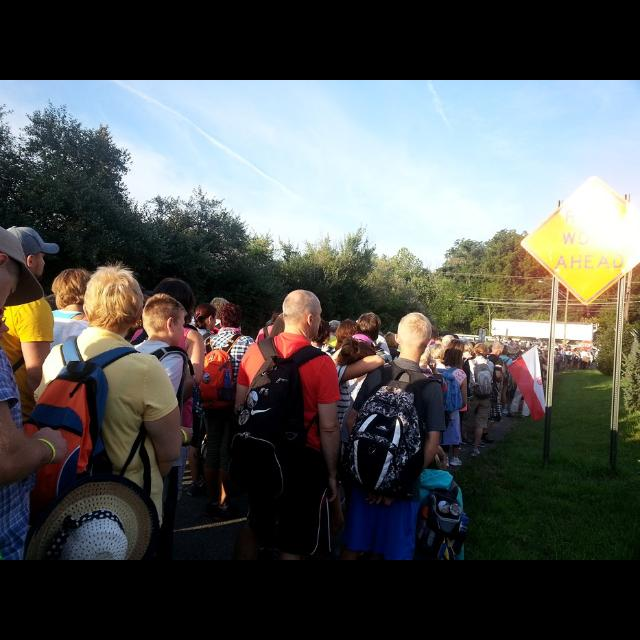head: (82, 268, 146, 326), (0, 226, 34, 330), (1, 228, 30, 322), (142, 296, 186, 346), (282, 289, 324, 339), (152, 279, 194, 325), (394, 310, 434, 356), (54, 268, 94, 310), (343, 339, 372, 376), (358, 313, 382, 342), (195, 304, 219, 332), (220, 304, 242, 330), (446, 340, 464, 360), (385, 332, 401, 350), (474, 344, 490, 358), (492, 341, 506, 357), (502, 349, 508, 357)
person: (317, 310, 397, 538), (194, 298, 266, 546), (170, 299, 227, 503), (422, 338, 468, 470), (372, 329, 410, 468), (458, 341, 500, 457), (478, 340, 508, 428), (492, 344, 516, 416)
